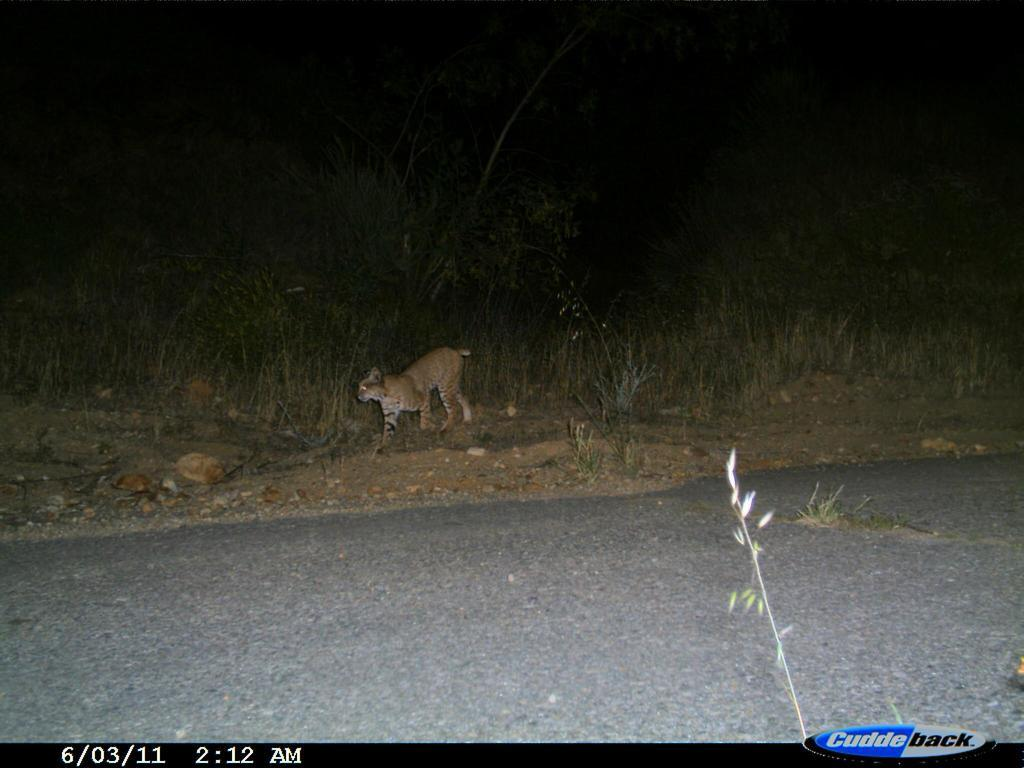bobcat: (354, 344, 478, 457)
